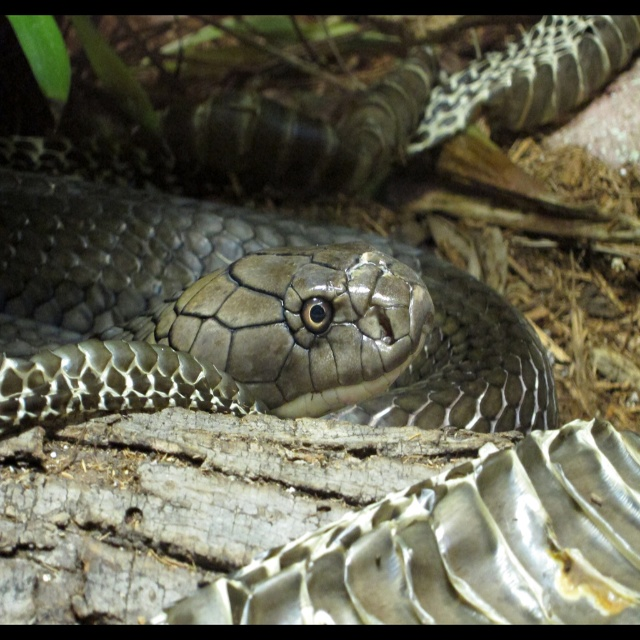Snake: (0, 15, 640, 625)
